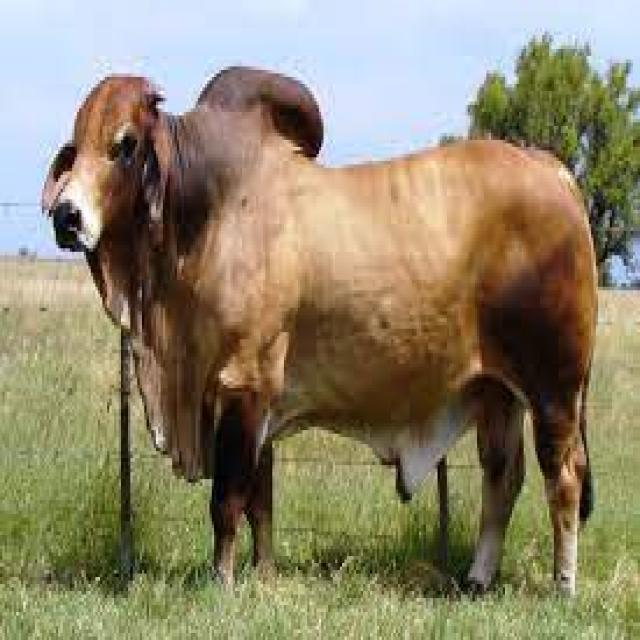cowFace: (28, 14, 174, 290)
